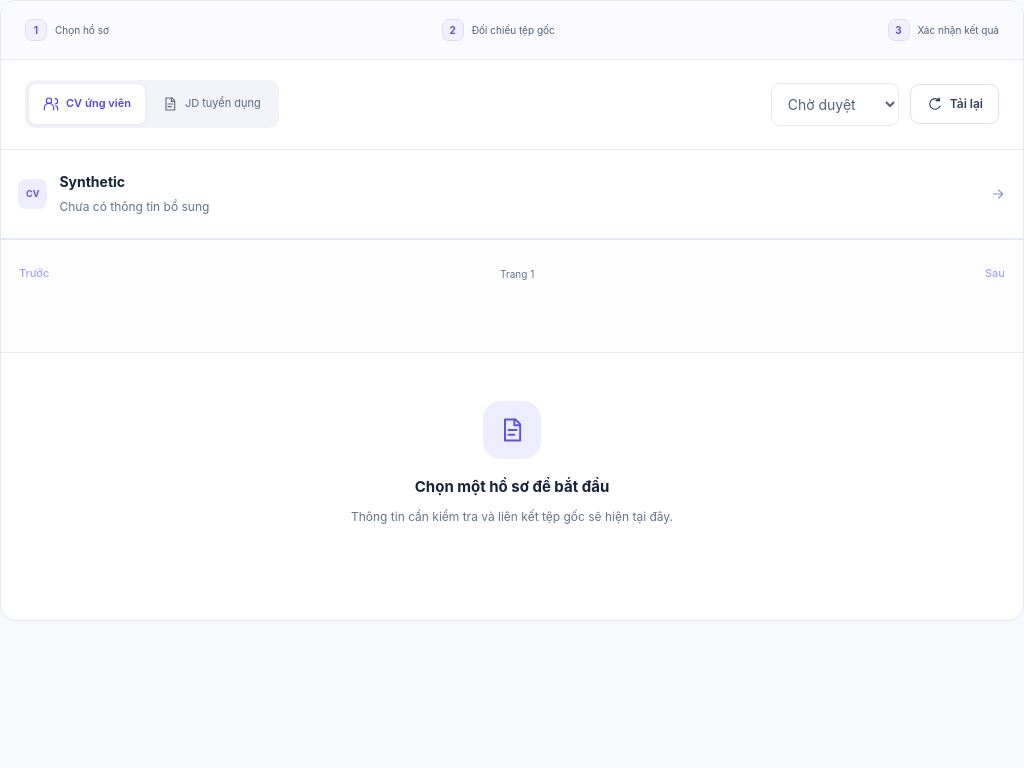
Test case: review request lifecycle › clears selection and reloads server list after stale decision 409
This screenshot has width=1024, height=768.
Click the button "CV Synthetic Chưa có thông tin bổ sung".
click(92, 182)  # box [1,150,1023,239]
(page scrolled)
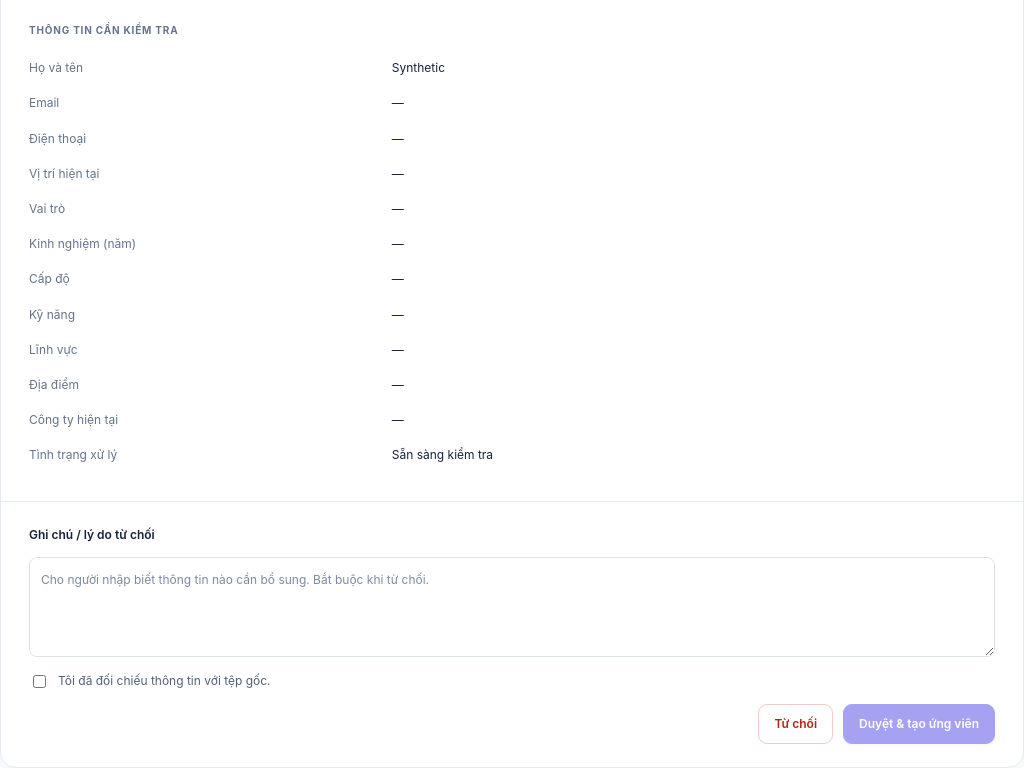
Click the checkbox.
click(40, 681)  # box [33,675,46,688]
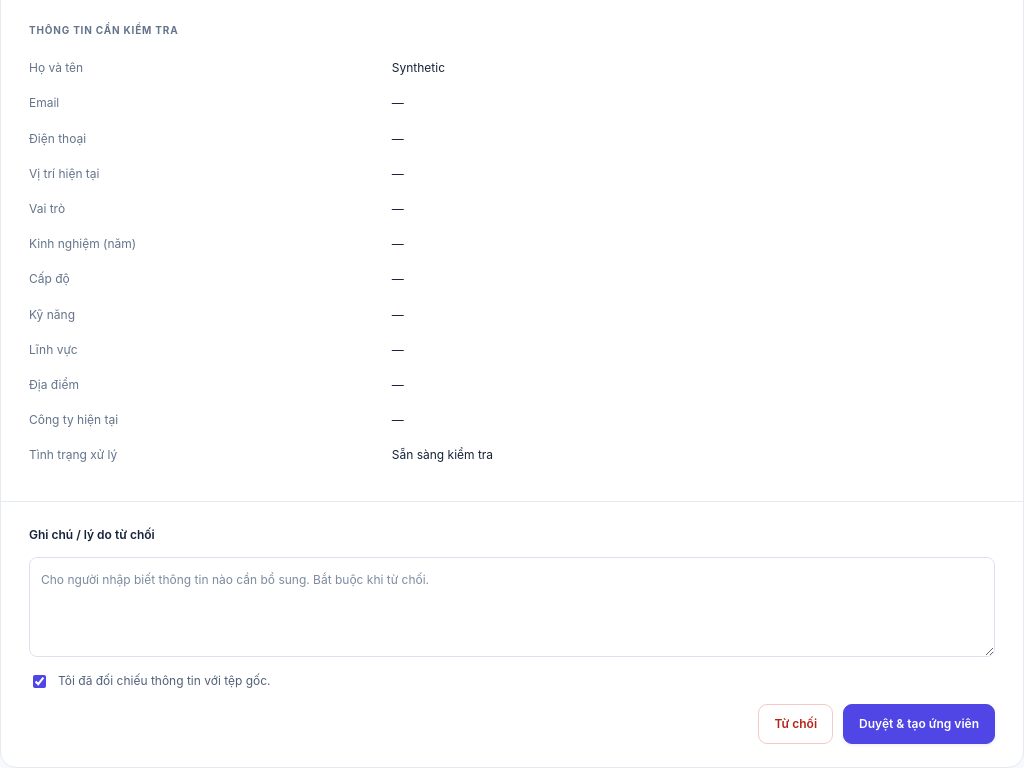
Click the button "Duyệt & tạo ứng viên".
click(919, 724)  # box [843,704,995,744]
(page scrolled)
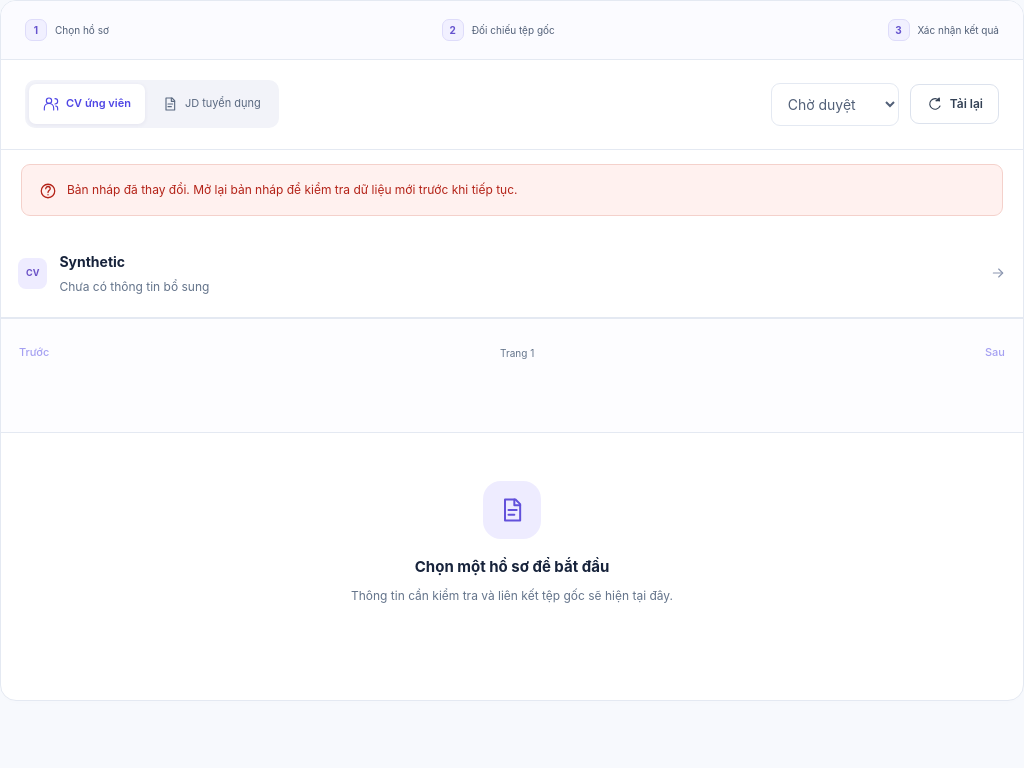
Now the message is shown, box [21,164,1003,216]
Now the message shows "Bản nháp đã thay đổi", box [67,182,518,197]
Now the button "Duyệt & tạo ứng viên" is gone
